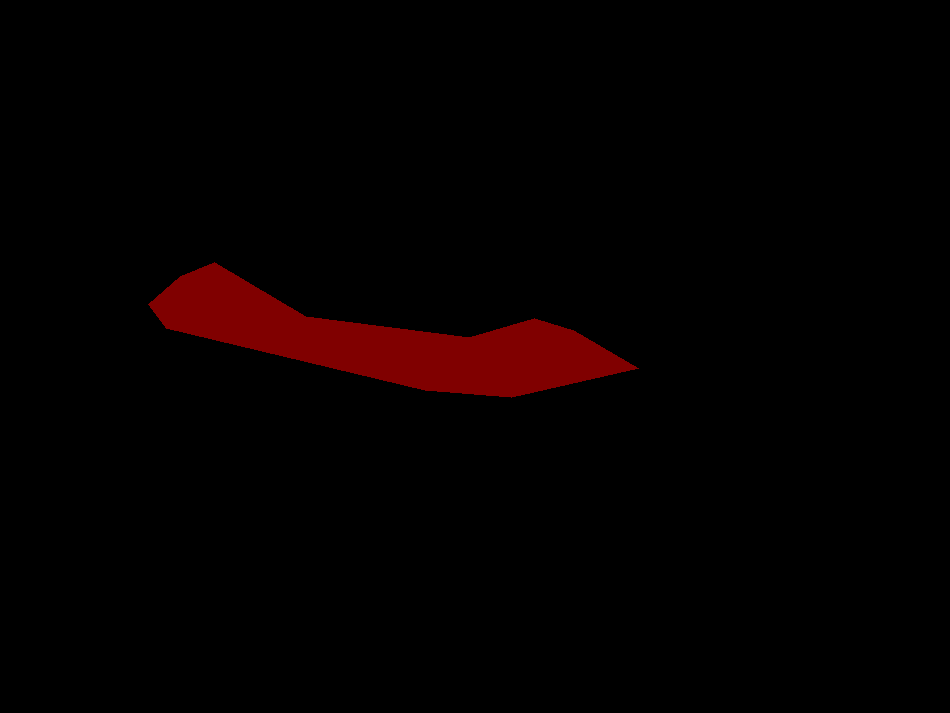fire: (148, 262, 638, 397)
